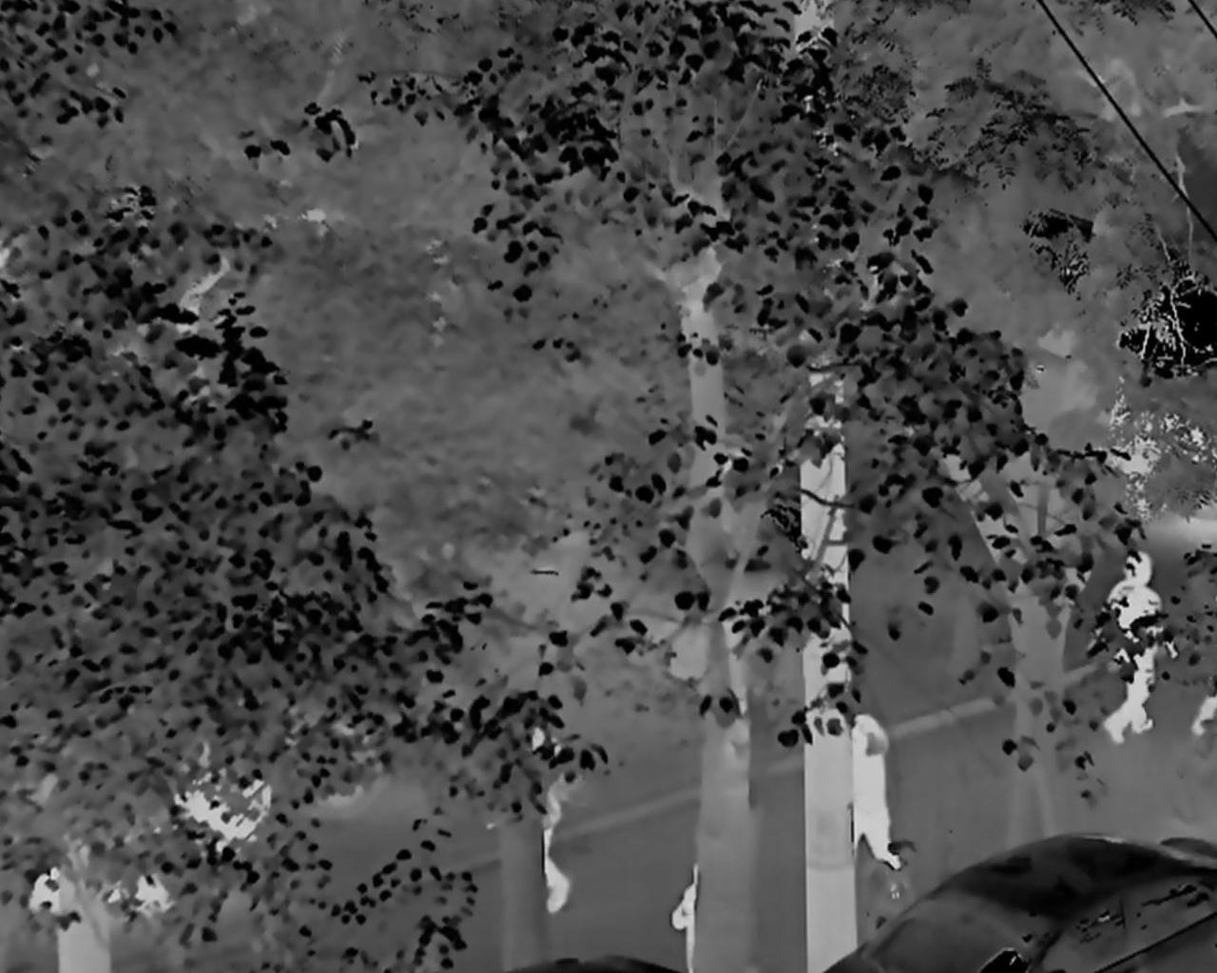person: (1101, 552, 1166, 741), (840, 712, 908, 877)
